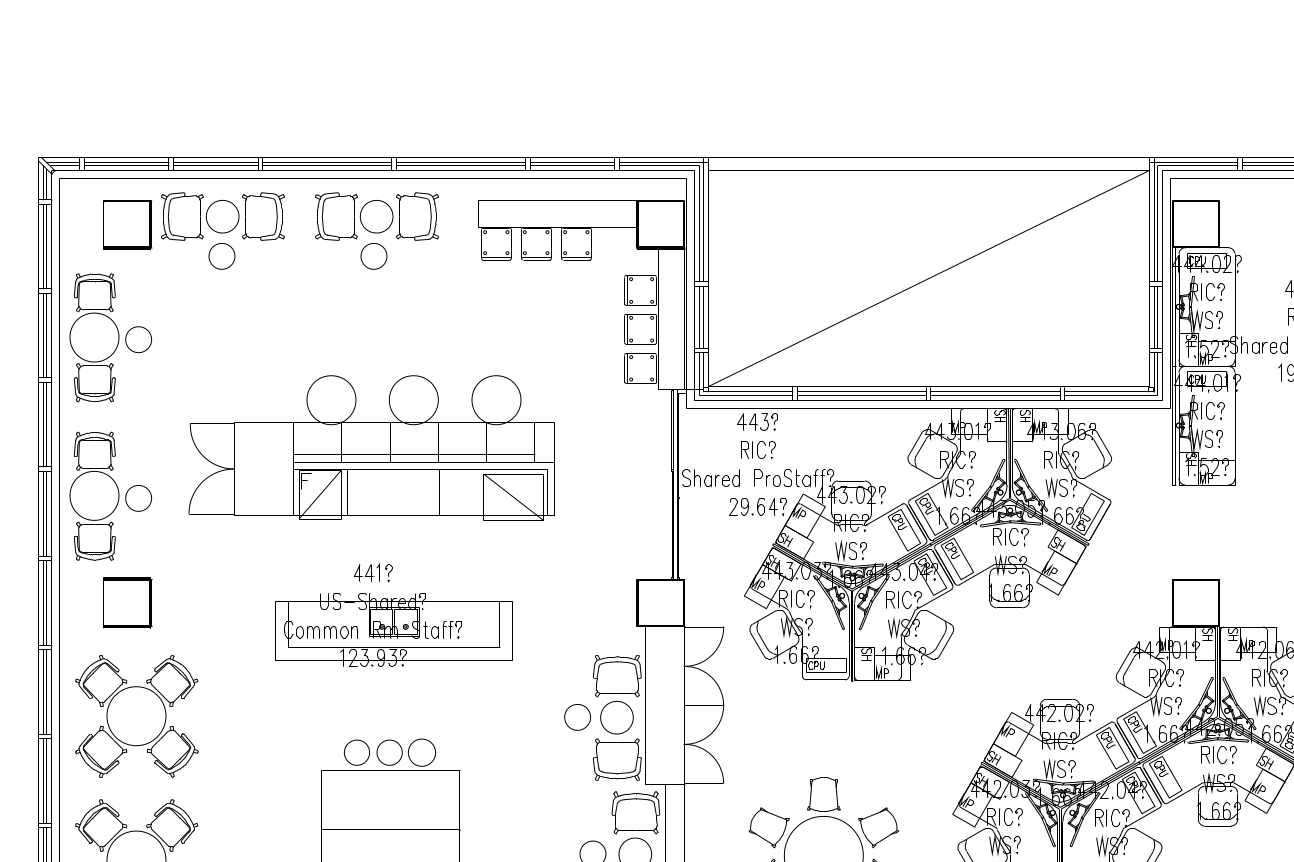door: (685, 620, 729, 670), (684, 655, 728, 705), (682, 703, 728, 744), (684, 745, 730, 786)
